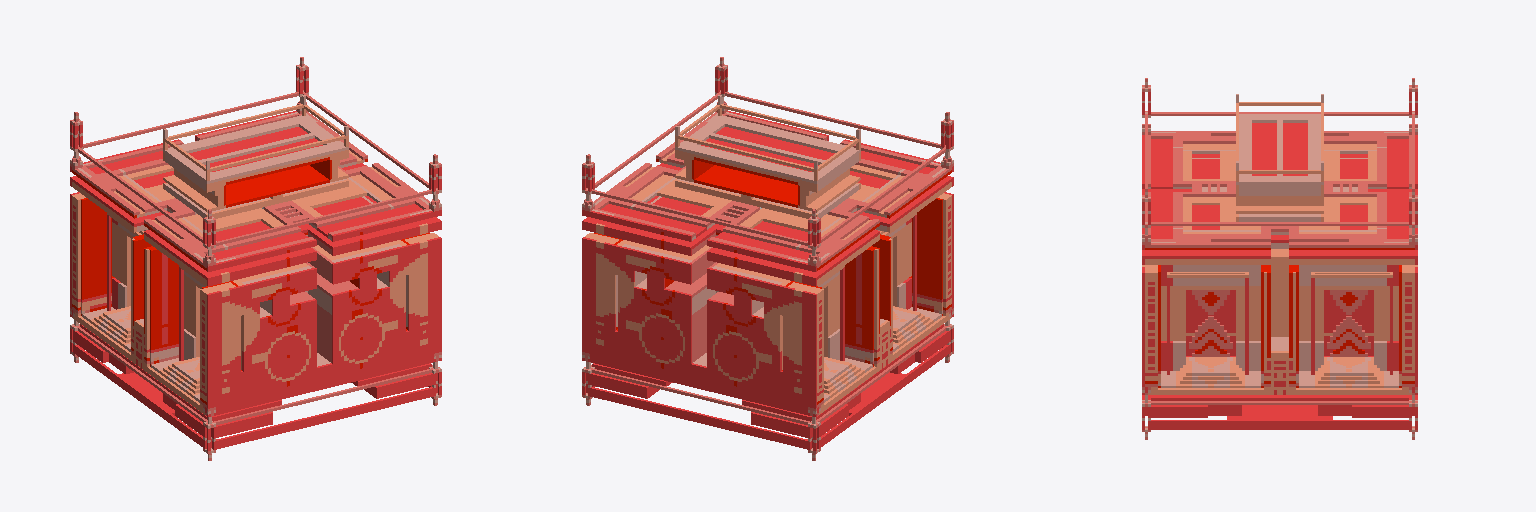
The picture shows the model from 3 angles: view 1: azimuth 30°, elevation 25°; view 2: azimuth 150°, elevation 25°; view 3: azimuth 270°, elevation 25°; orthographic projection.
Visible parts, largest first — view 1: 人物-2; view 2: 人物-2; view 3: 人物-2.
Part boxes in pixels (x1,y1,x2,y2): 人物-2: (70,57,441,460); 人物-2: (582,57,953,460); 人物-2: (1142,78,1417,439).
Size of the model in its own units: 86 by 90 by 88.
Materials: 1 (1 with a texture image).